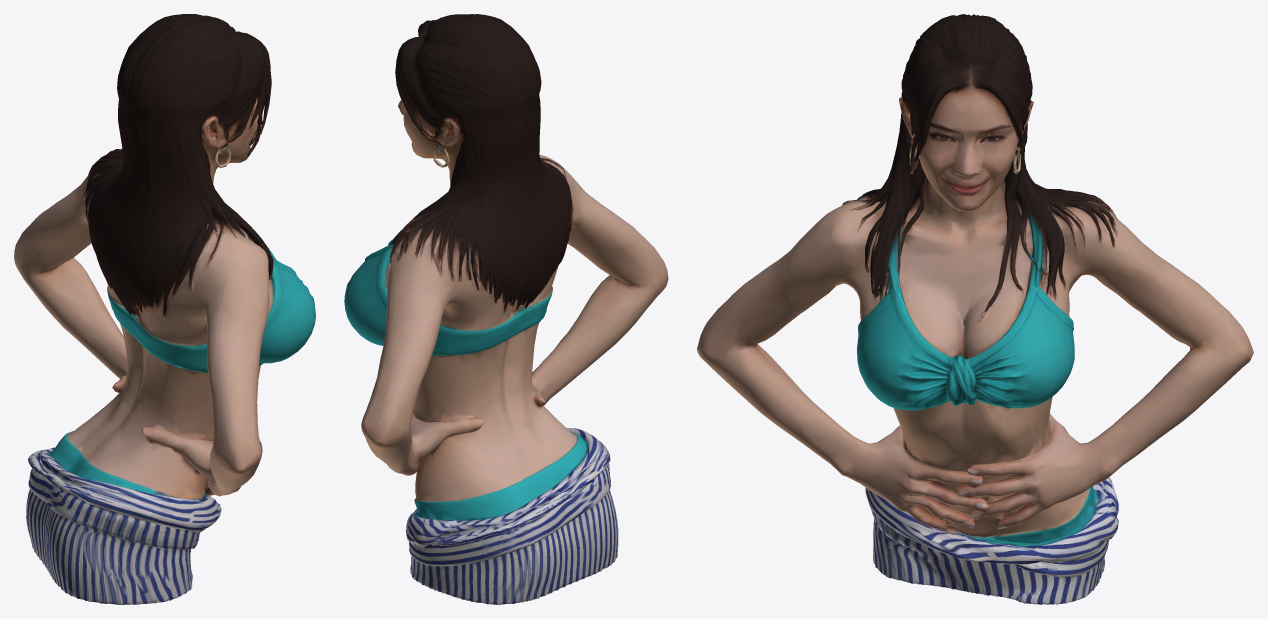
File: liver.obj
3 renders of one model, left to right at view 1: azimuth 30°, elevation 25°; view 2: azimuth 150°, elevation 25°; view 3: azimuth 270°, elevation 25°, orthographic. The views are drawn at different scales.
Visible parts, largest first — view 1: meshes[0]; view 2: meshes[0]; view 3: meshes[0].
Boxes of the visible parts, <box> form: meshes[0]: <box>14,14,315,604</box>; meshes[0]: <box>344,14,668,604</box>; meshes[0]: <box>697,14,1253,604</box>.
Size of the model in its own units: 0.4675 by 0.9803 by 0.8628.
Materials: 1 (1 with a texture image).
